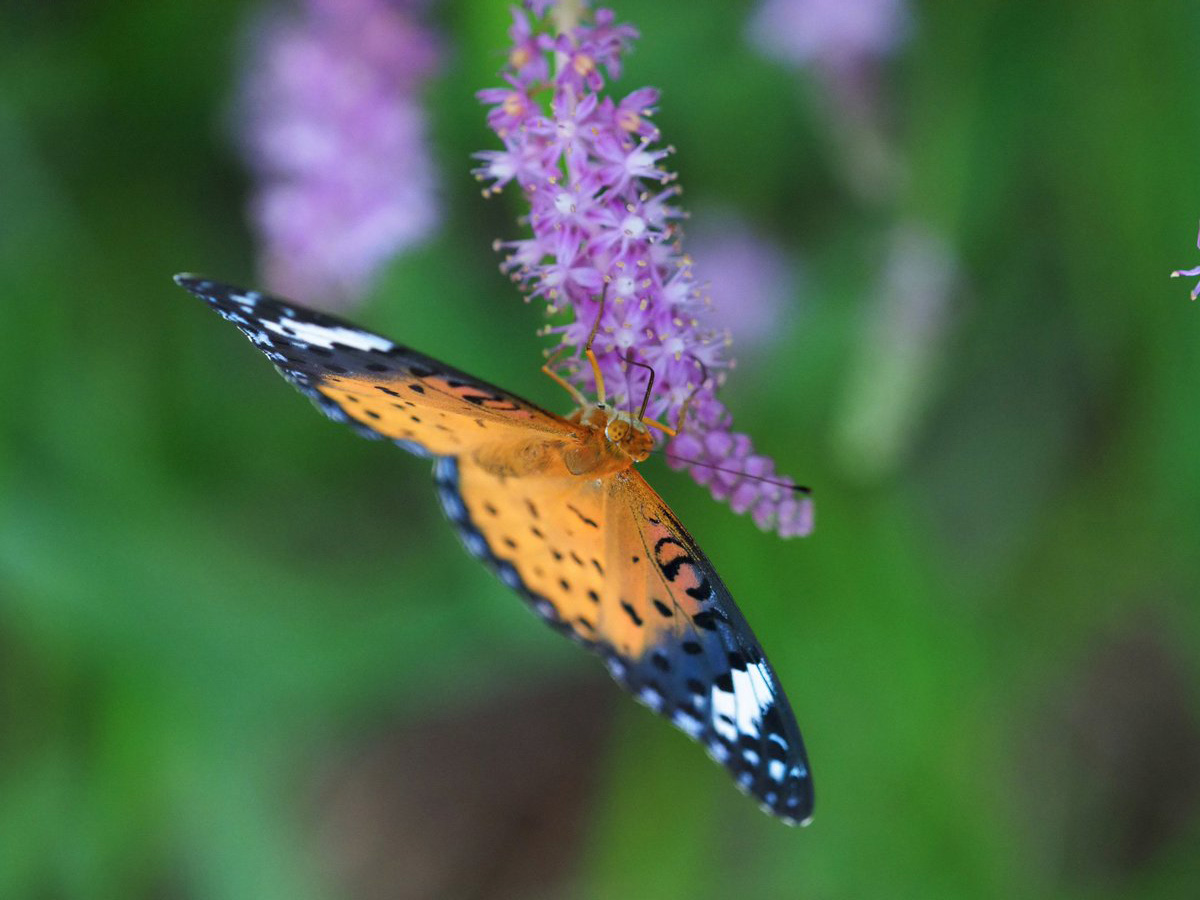Argyreus hyperbius: (170, 256, 826, 829)
butterfly: (168, 254, 824, 827)
